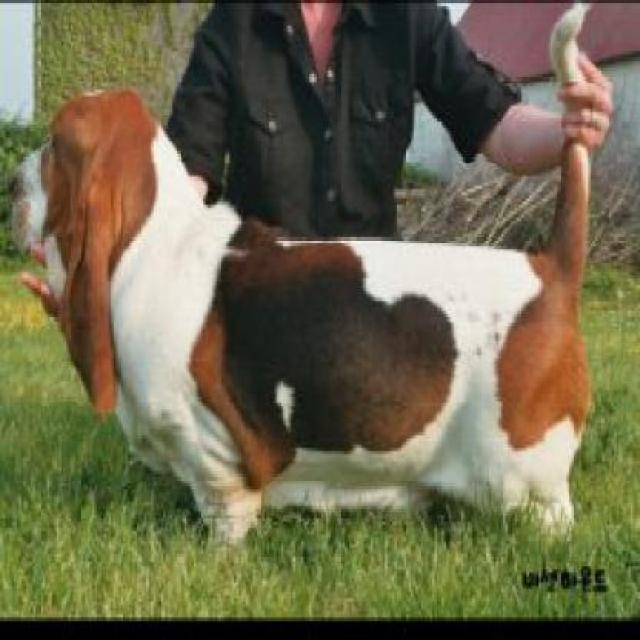Dog: (5, 2, 597, 549)
